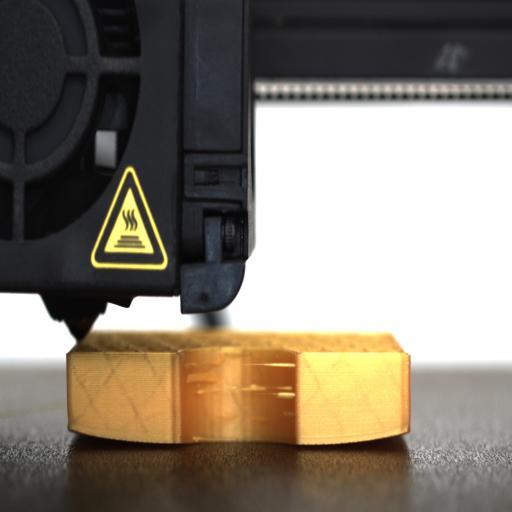warp: (65, 421, 183, 445), (289, 429, 423, 449)
